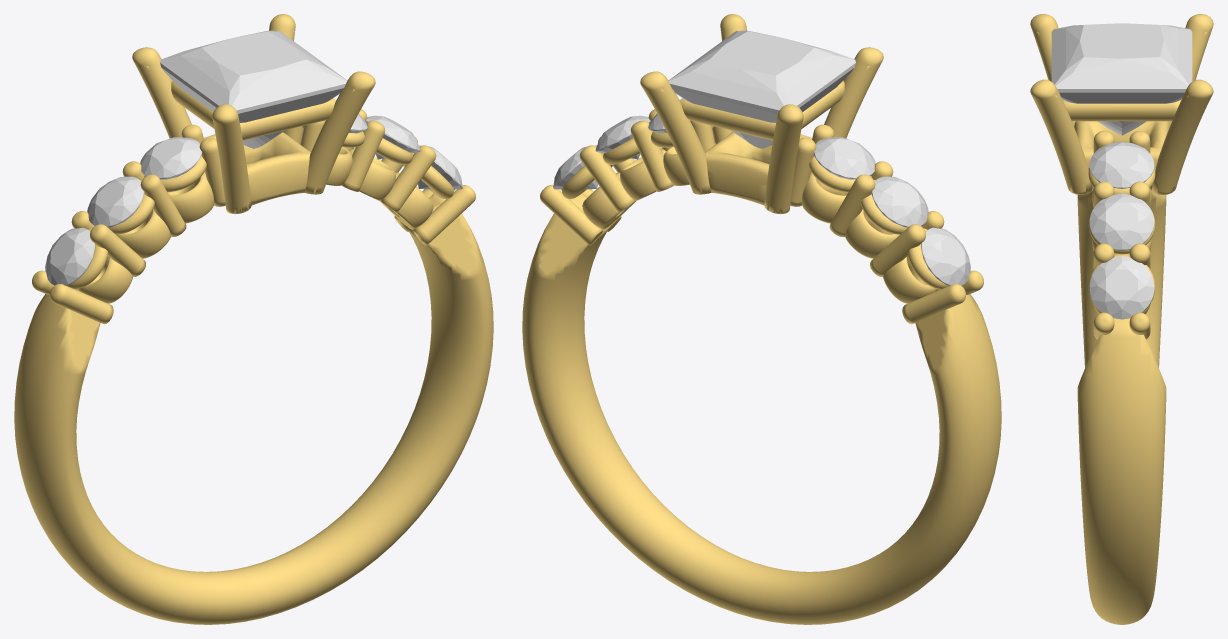
Rendered from diamond-princess-yellowgold-4prong-taperedband-7stone.glb.
3 views of the same model, side by side, from view 1: azimuth 30°, elevation 25°; view 2: azimuth 150°, elevation 25°; view 3: azimuth 270°, elevation 25° (orthographic).
Parts seen in each view (by area): view 1: metal, stone, side, side.001, side.002, side.004, side.005; view 2: metal, stone, side, side.001, side.002, side.004, side.005; view 3: metal, stone, side.005, side.004, side.003.
Part boxes in pixels (box(x1,y1,x2,y2)): metal: box(14, 14, 493, 624); stone: box(160, 30, 347, 148); side: box(45, 227, 94, 285); side.001: box(87, 176, 144, 227); side.002: box(140, 137, 202, 179); side.004: box(365, 115, 420, 159); side.005: box(418, 145, 462, 189); metal: box(522, 14, 1001, 624); stone: box(668, 30, 855, 148); side: box(921, 227, 970, 285); side.001: box(871, 176, 928, 227); side.002: box(813, 137, 875, 179); side.004: box(595, 115, 650, 159); side.005: box(553, 145, 597, 189); metal: box(1030, 14, 1213, 624); stone: box(1051, 23, 1192, 135); side.005: box(1089, 256, 1154, 319); side.004: box(1089, 193, 1154, 250); side.003: box(1089, 141, 1154, 188).
Size of the model in its own units: 20.5 by 23.85 by 7.08.
